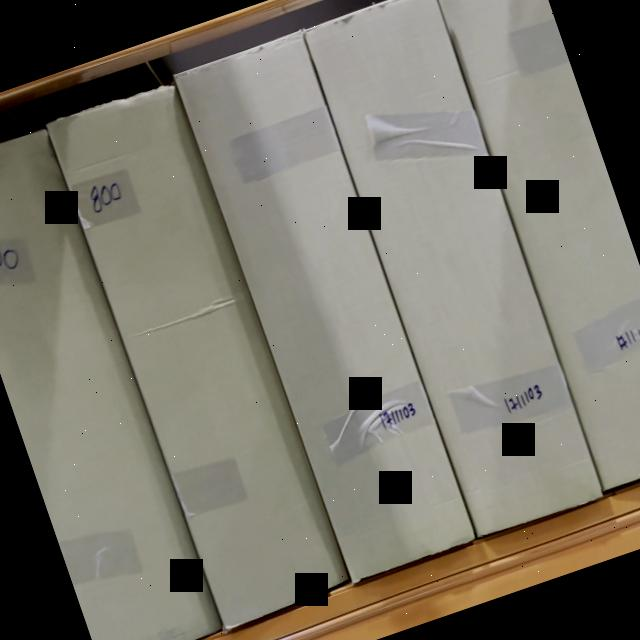box: (50, 80, 348, 626), (305, 0, 603, 534), (179, 35, 472, 577), (0, 132, 215, 640)
